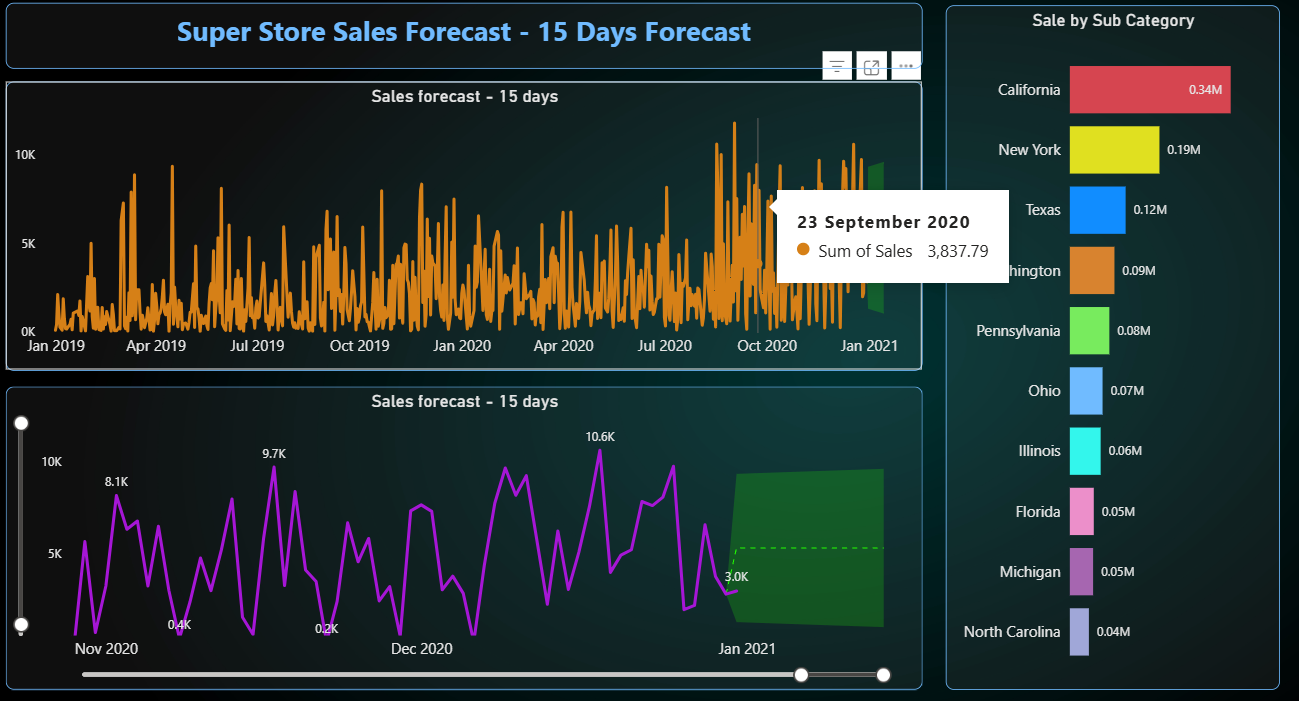

This screenshot's page, from the dashboard's own definition file:
{"tool":"powerbi","page":{"name":"sales Forecast","canvas":[1280,720],"ordinal":1},"visuals":[{"type":"lineChart","title":"Sales forecast - 15 days","fields":{"Y":["Sum(Sheet1.Sales)"],"Category":["Sheet1.Order Date"]},"box":[8.1,86,900,283.7],"z":0},{"type":"clusteredBarChart","title":"Sale by Sub Category","fields":{"Category":["Sheet1.State"],"Y":["Sum(Sheet1.Sales)"]},"box":[931.4,10.5,327.9,672.1],"z":1000},{"type":"lineChart","title":"Sales forecast - 15 days","fields":{"Y":["Sum(Sheet1.Sales)"],"Category":["Sheet1.Order Date"]},"box":[8.1,384.9,900,297.7],"z":2000},{"type":"textbox","box":[8.1,8.1,900,65.1],"z":3000}]}

Visuals, with their boxes on the page's 1280x720 design canvas (x1, y1, x2, y2). These are canvas units, not pixel positions in the 1299x701 screenshot, which may show the page scaled, cropped or inside an application window:
"Sales forecast - 15 days" lineChart: (8,86,908,370)
"Sale by Sub Category" clusteredBarChart: (931,10,1259,683)
"Sales forecast - 15 days" lineChart: (8,385,908,683)
textbox: (8,8,908,73)
